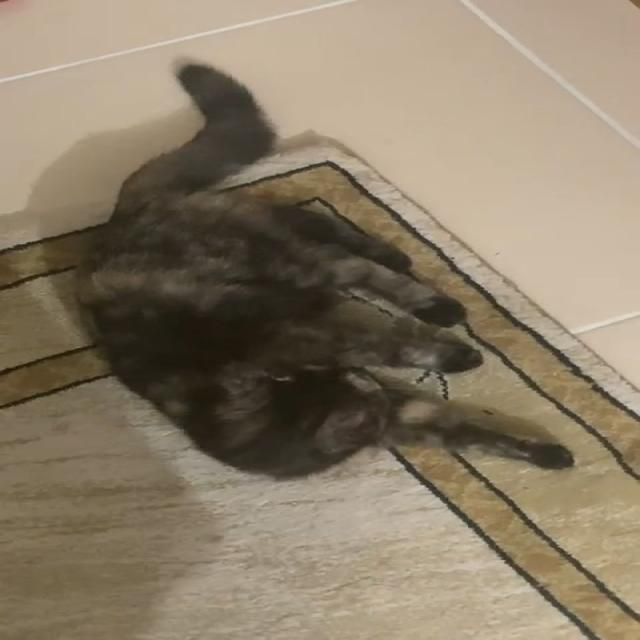authorized: (70, 56, 574, 482)
